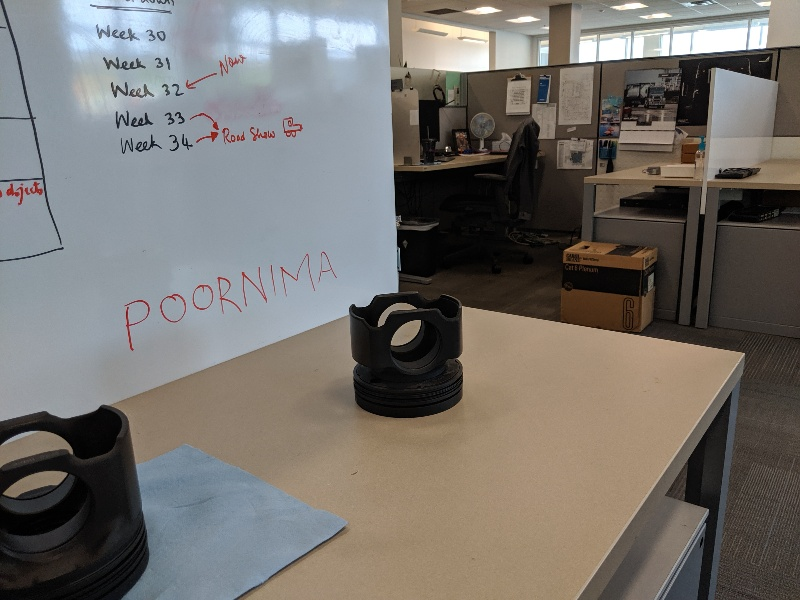piston: (1, 399, 163, 600), (338, 288, 470, 417)
